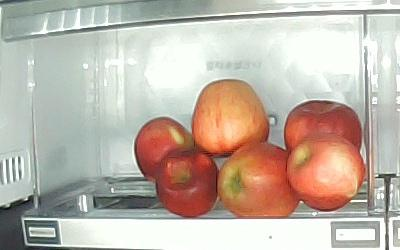apple: (217, 141, 299, 219), (285, 133, 365, 211), (191, 78, 268, 157), (155, 149, 221, 218), (283, 99, 362, 154), (133, 115, 194, 180)
